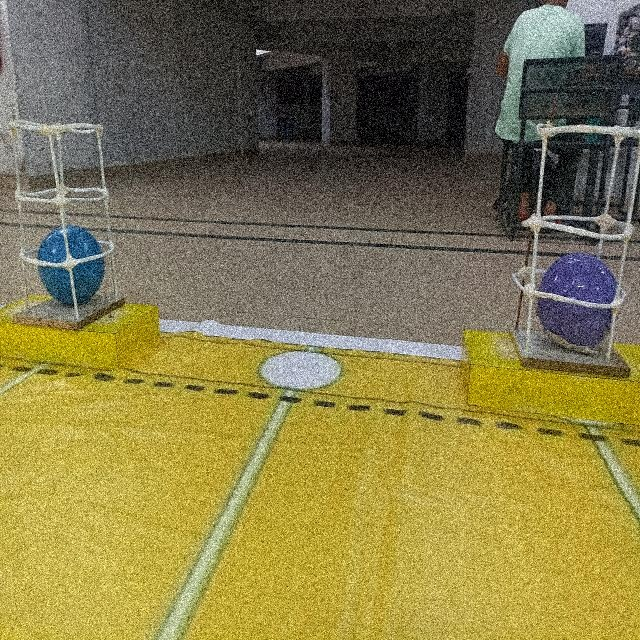blue_ball: (38, 220, 104, 302)
purple_ball: (536, 258, 618, 349)
silo: (514, 120, 633, 379), (8, 116, 126, 330)
